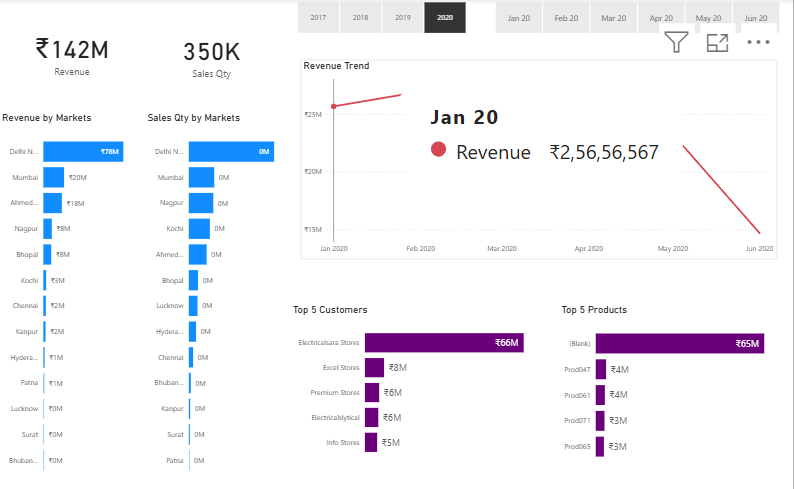

Layout of this report page (visuals, bound fields, positions):
{"tool":"powerbi","page":{"name":"Key Insights","canvas":[1350,850],"ordinal":0},"visuals":[{"type":"card","fields":{"Values":["BaseMeasures (2).Revenue"]},"box":[0,0,247.9,184.6],"z":0},{"type":"card","fields":{"Values":["BaseMeasures (2).Sales Qty"]},"box":[247.9,0,227.9,193.1],"z":1000},{"type":"barChart","title":"Revenue by Markets","fields":{"Y":["BaseMeasures (2).Revenue"],"Category":["sales markets.markets_name"]},"box":[0,193.1,247.9,631.9],"z":2000},{"type":"barChart","title":"Sales Qty by Markets","fields":{"Y":["BaseMeasures (2).Sales Qty"],"Category":["sales markets.markets_name"]},"box":[247.9,193.1,247.9,631.9],"z":3000},{"type":"slicer","fields":{"Values":["sales date.year"]},"box":[483.2,0,335.5,66.5],"z":4000},{"type":"slicer","fields":{"Values":["sales date.cy_date"]},"box":[818.6,0,531.7,66.5],"z":5000},{"type":"barChart","title":"Top 5 Customers","fields":{"Y":["BaseMeasures (2).Revenue"],"Category":["sales customers.custmer_name"]},"box":[495.8,519,446.2,274.3],"z":6000},{"type":"barChart","title":"Top 5 Products","fields":{"Y":["BaseMeasures (2).Revenue"],"Category":["sales products.product_code"]},"box":[950.7,519.2,399.5,282.8],"z":7000},{"type":"lineChart","title":"Revenue Trend","fields":{"Y":["BaseMeasures (2).Revenue"],"Category":["sales date.cy_date"]},"box":[513.8,104.4,809.1,338.6],"z":8000}]}

Visuals, with their boxes in screenshot pixels (x1, y1, x2, y2), scaled from the page's 1350x850 canvas onto the 794x489 screenshot:
card - BaseMeasures (2).Revenue: Rect(0, 0, 146, 106)
card - BaseMeasures (2).Sales Qty: Rect(146, 0, 280, 111)
"Revenue by Markets" barChart: Rect(0, 111, 146, 475)
"Sales Qty by Markets" barChart: Rect(146, 111, 292, 475)
slicer - sales date.year: Rect(284, 0, 482, 38)
slicer - sales date.cy_date: Rect(481, 0, 793, 38)
"Top 5 Customers" barChart: Rect(292, 299, 554, 456)
"Top 5 Products" barChart: Rect(559, 299, 793, 461)
"Revenue Trend" lineChart: Rect(302, 60, 778, 255)
